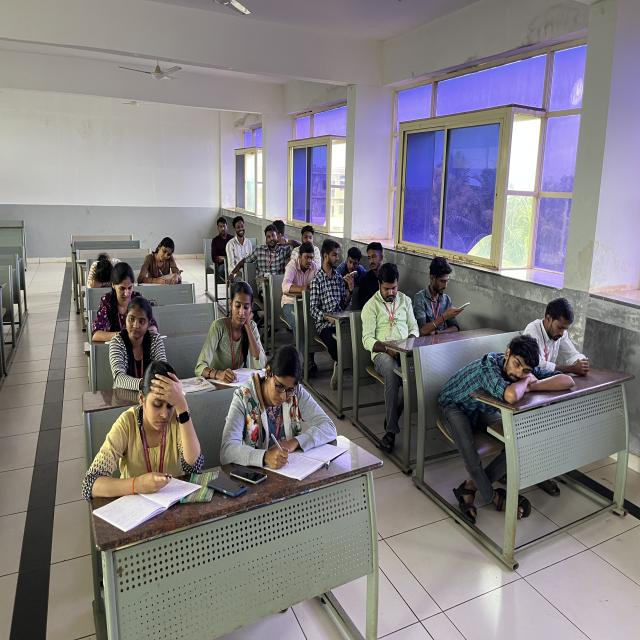Using Phone: (428, 332, 568, 423), (361, 264, 423, 366), (414, 247, 471, 341), (308, 235, 363, 328)
Writing: (72, 361, 205, 516), (220, 343, 350, 477), (200, 279, 278, 392), (133, 230, 195, 287)
